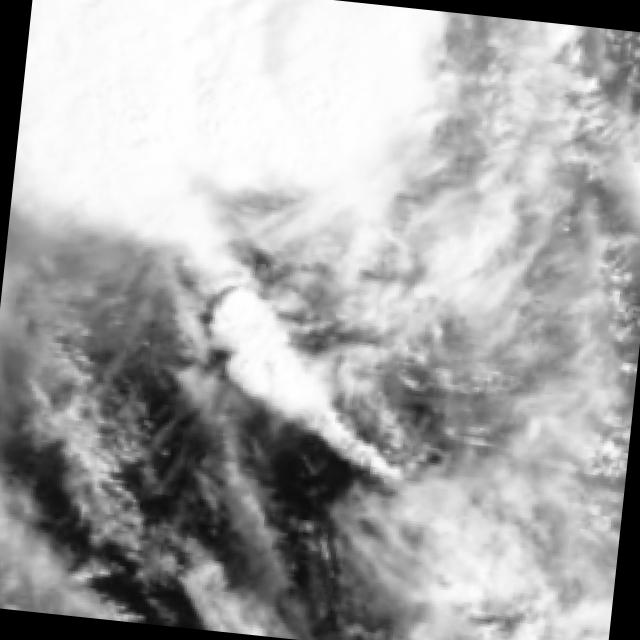CB: (15, 0, 420, 197)
